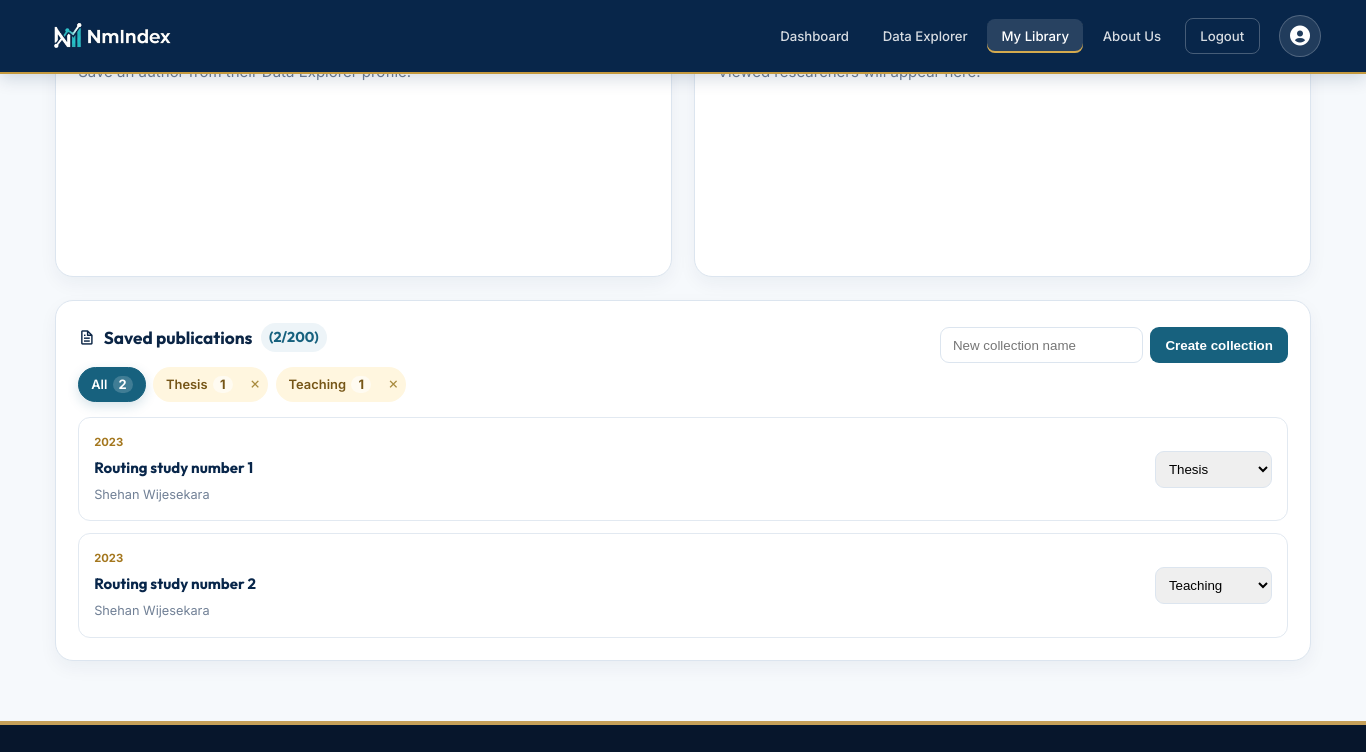
Test: publications open correctly from different collections
(page scrolled)
Step 1. Click the button "Teaching 1" → (328, 384), box [276, 367, 380, 402]
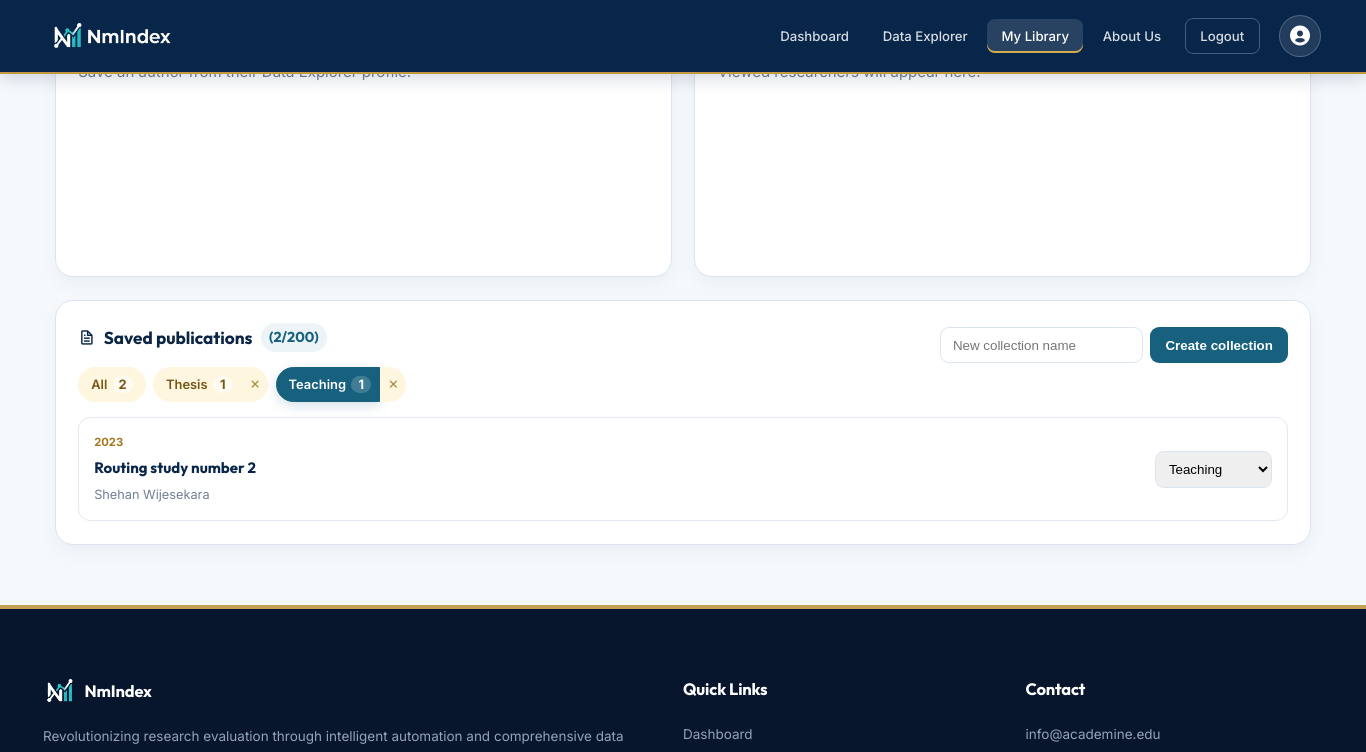
Step 2. Click the button "2023 Routing study number 2 Shehan Wijesekara" → (175, 467), box [94, 433, 1140, 506]
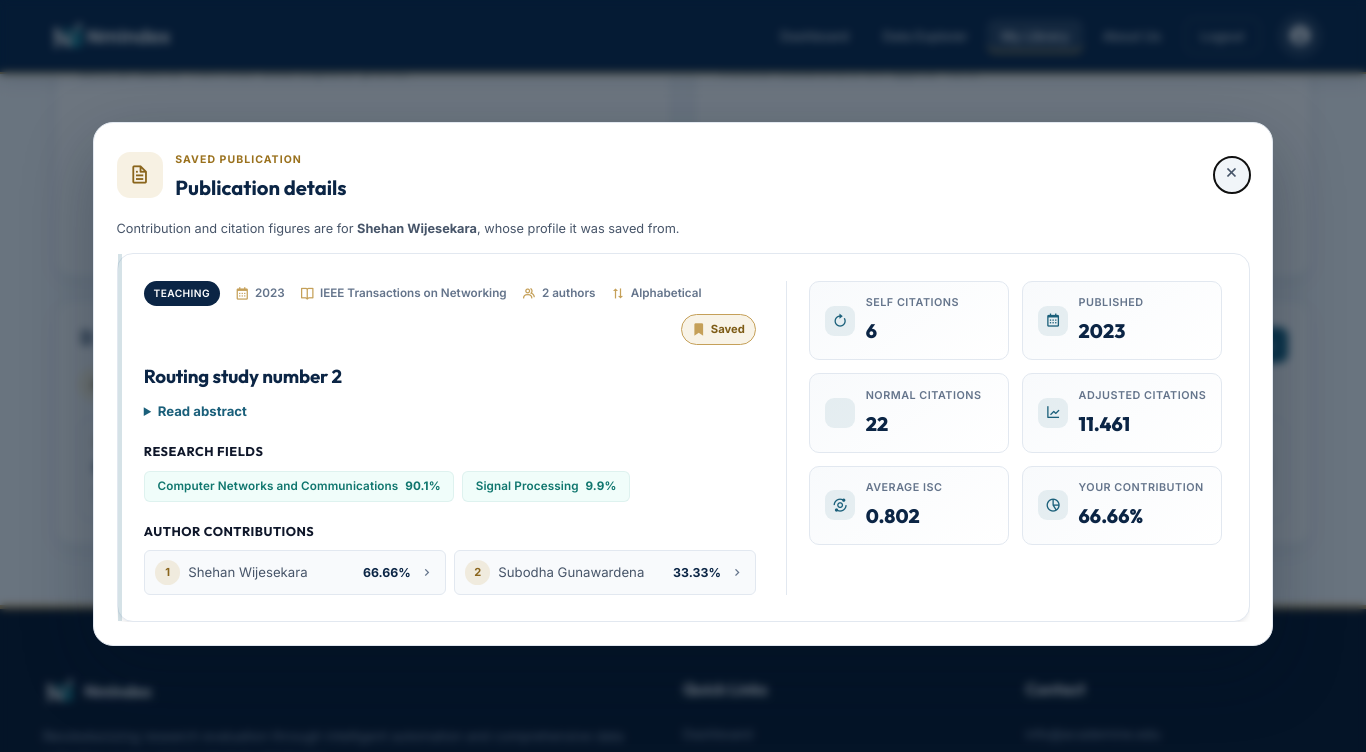
Expected: the text "Teaching" is shown, [144, 281, 220, 306]
